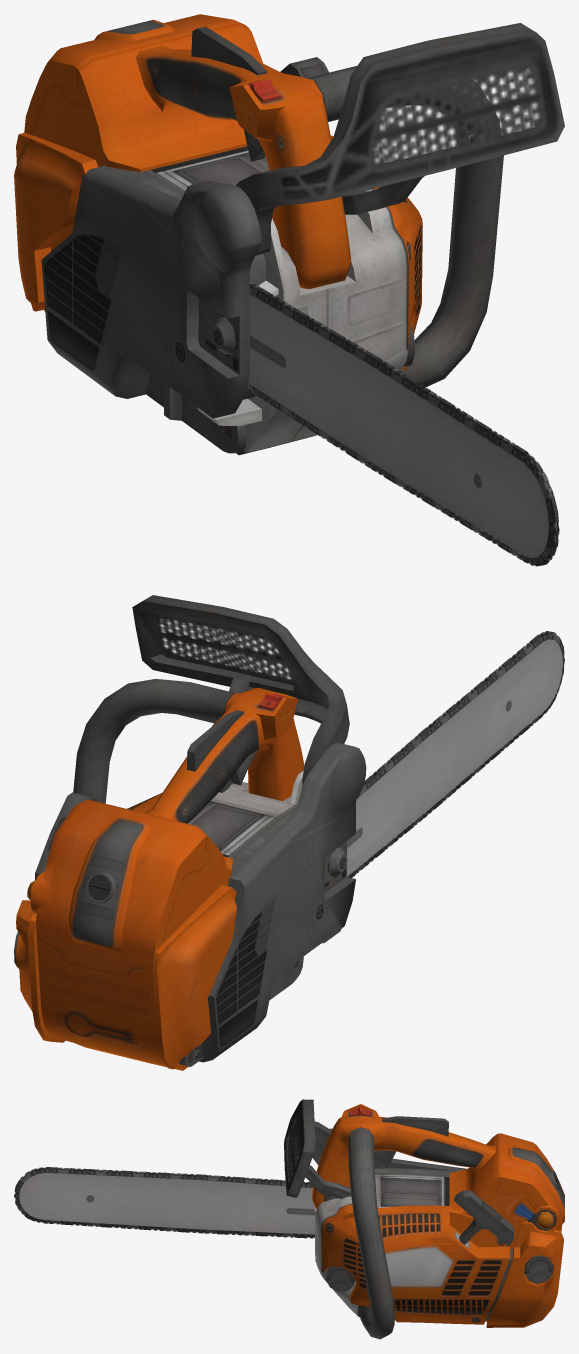
The model's file is tronconneuse.glb.
The picture shows the model from 3 angles, top to bottom: view 1: azimuth 30°, elevation 25°; view 2: azimuth 150°, elevation 25°; view 3: azimuth 270°, elevation 25°; orthographic projection. The views are drawn at different scales.
Parts seen in each view (by area): view 1: Chainsaw01_Chainsaw01_0, Chainsaw01_Chainsaw01_Alpha_0, Chainsaw01_Chainsaw01_Chain_0; view 2: Chainsaw01_Chainsaw01_0, Chainsaw01_Chainsaw01_Alpha_0, Chainsaw01_Chainsaw01_Chain_0; view 3: Chainsaw01_Chainsaw01_0, Chainsaw01_Chainsaw01_Chain_0, Chainsaw01_Chainsaw01_Alpha_0.
Boxes of the visible parts, <box> form: Chainsaw01_Chainsaw01_0: <box>14,14,556,558</box>; Chainsaw01_Chainsaw01_Alpha_0: <box>325,30,564,199</box>; Chainsaw01_Chainsaw01_Chain_0: <box>246,281,559,566</box>; Chainsaw01_Chainsaw01_0: <box>14,595,562,1070</box>; Chainsaw01_Chainsaw01_Alpha_0: <box>156,616,296,685</box>; Chainsaw01_Chainsaw01_Chain_0: <box>347,631,564,877</box>; Chainsaw01_Chainsaw01_0: <box>19,1099,564,1339</box>; Chainsaw01_Chainsaw01_Chain_0: <box>14,1167,314,1238</box>; Chainsaw01_Chainsaw01_Alpha_0: <box>284,1100,304,1195</box>.
Bounding box in the file's own units: 0.2624 × 0.3174 × 0.75.
3 materials, 3 textured.
